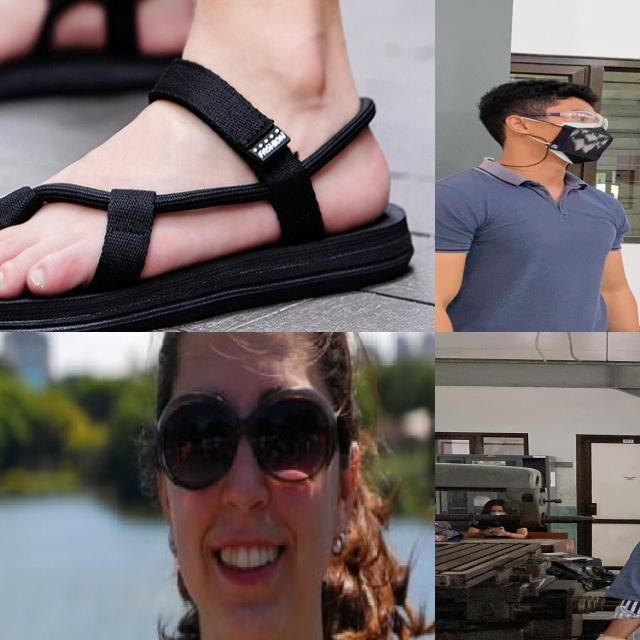Sandals: (0, 34, 417, 332)
face_mask: (541, 107, 619, 161), (487, 508, 508, 518)
face_nomask: (163, 390, 329, 592)
glasses: (160, 375, 341, 488), (512, 107, 612, 132)
hand_noglove: (492, 526, 509, 538)
head_nohelmet: (477, 75, 602, 114), (485, 498, 510, 509)
person: (68, 332, 435, 640), (435, 74, 640, 332), (565, 448, 640, 640)
